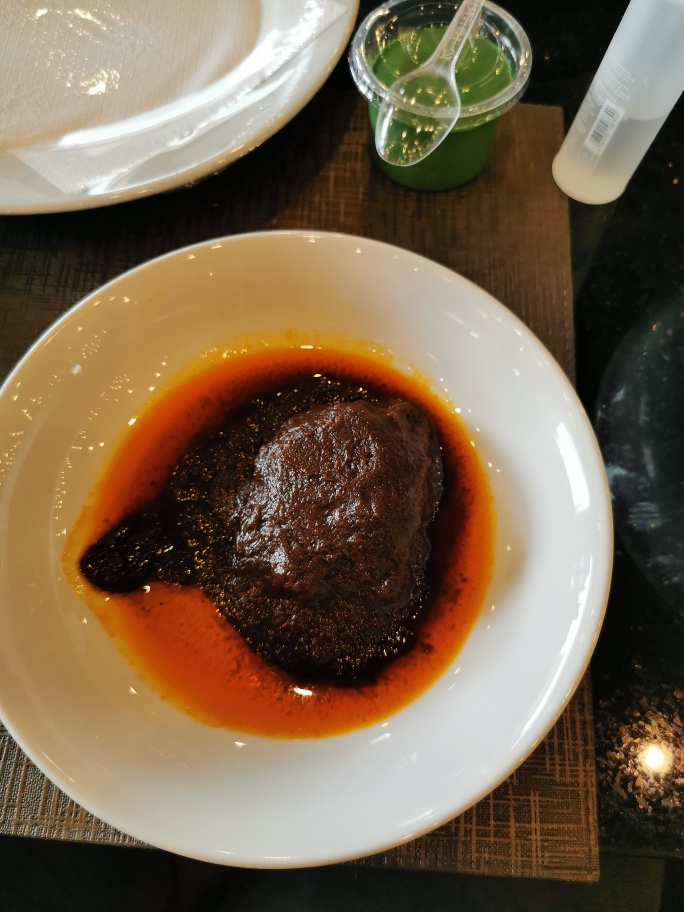rendang: (148, 389, 445, 688)
